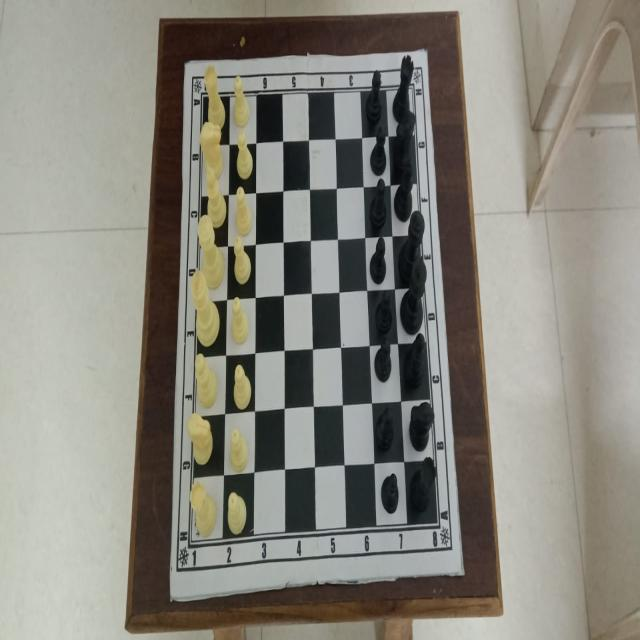corners: (163, 584, 180, 616), (180, 52, 192, 78), (418, 41, 431, 64), (457, 562, 470, 582)
